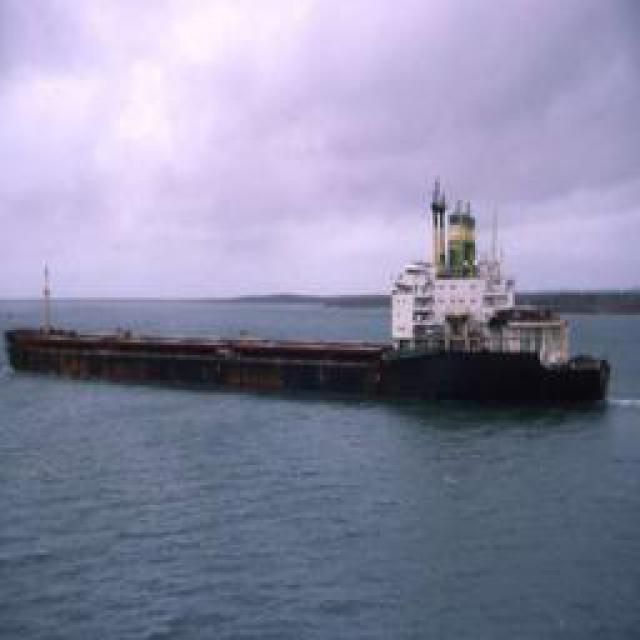Ship: (21, 327, 616, 400)
